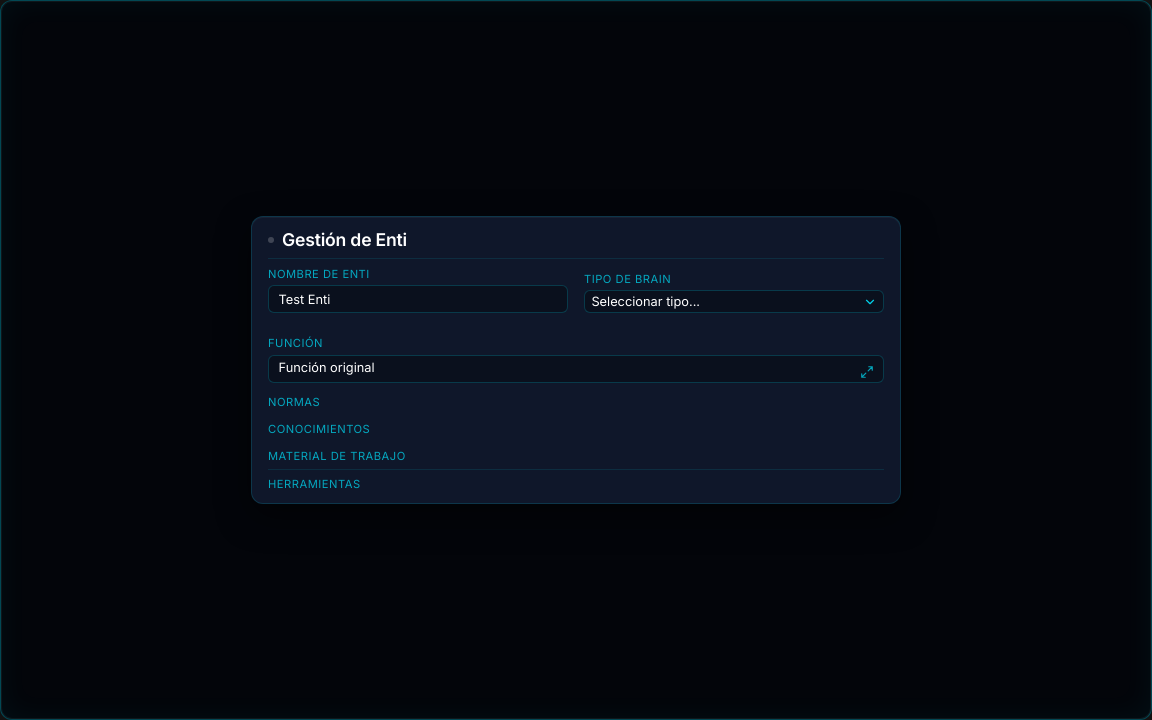
Scenario: Workspace Tipo de Brain Integration (FIA-013) › TEST-FIA013-02: muestra solo IA Local e IA Cloud/OpenAI (además del unconfigured placeholder)
What coordinates should you click on to do the following:
click the element with test id "input-cognitive-mode"
I would click on:
 (734, 302)
Its box is top-left (584, 290), bottom-right (884, 313).
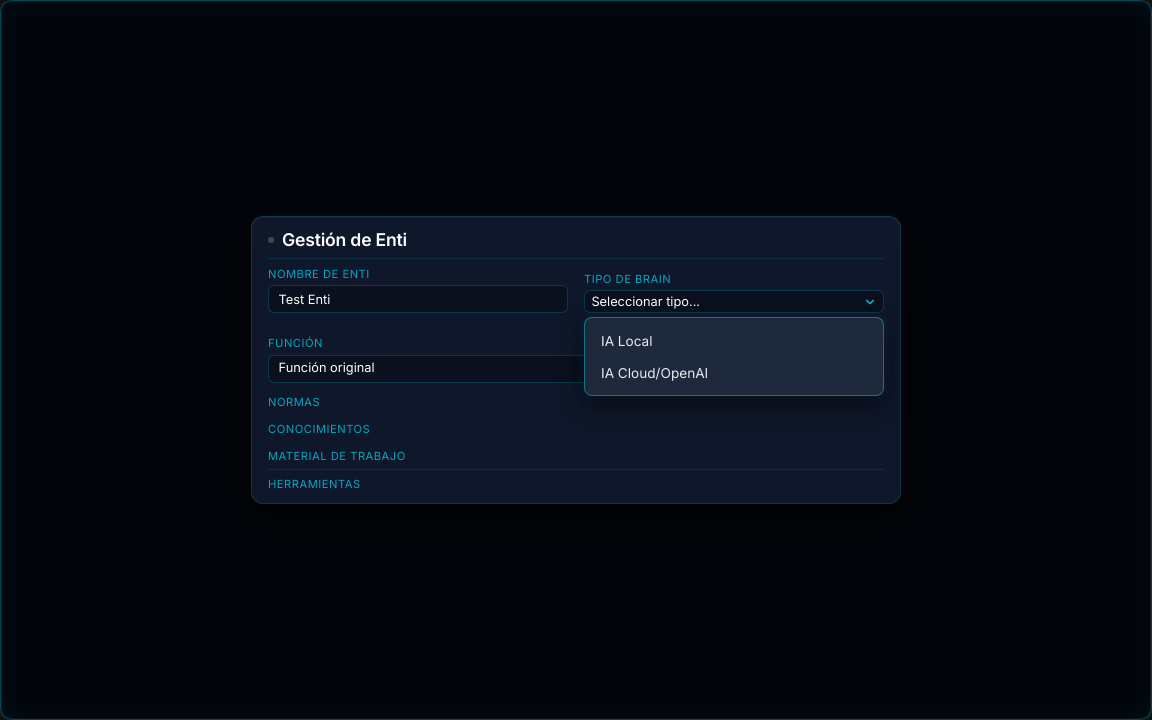
Check: the element with test id "input-cognitive-mode" reads "Seleccionar tipo...", box top-left (591, 294), bottom-right (700, 309)
Check: the list item with test id "option-local" is shown, box top-left (601, 333), bottom-right (652, 349)
Check: the list item with test id "option-cloud" is shown, box top-left (601, 365), bottom-right (708, 381)
